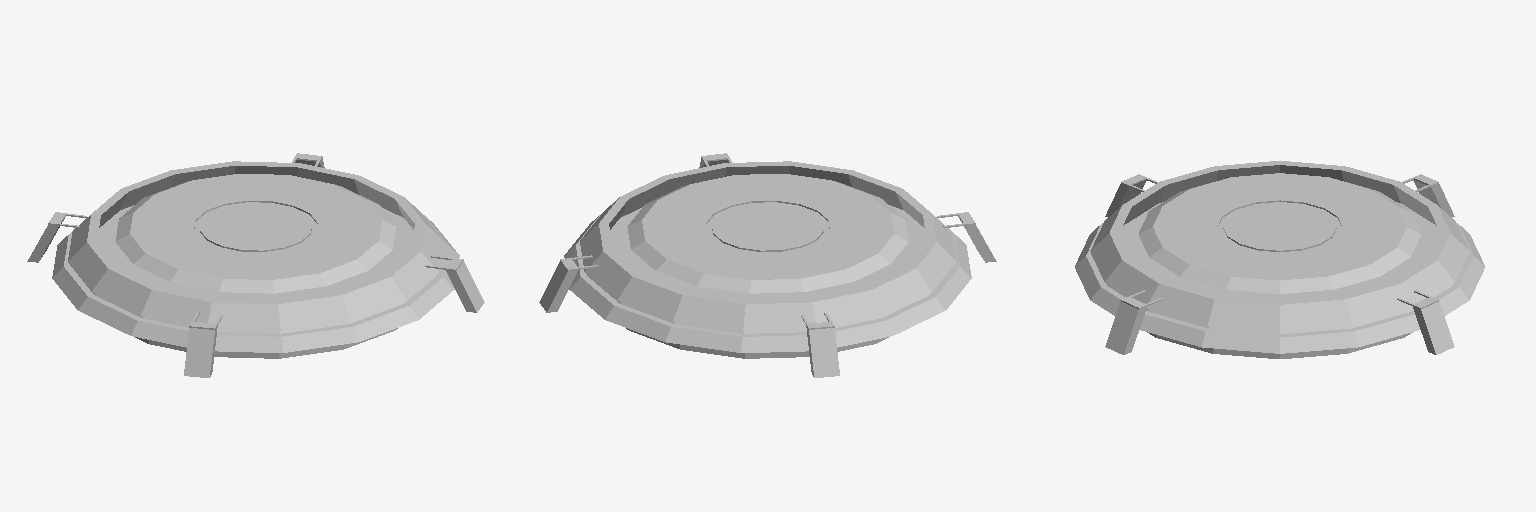
The model's file is StandButton.obj.
3 renders of one model, left to right at view 1: azimuth 30°, elevation 25°; view 2: azimuth 150°, elevation 25°; view 3: azimuth 270°, elevation 25°, orthographic.
Parts seen in each view (by area): view 1: stand_chassi.001_Cylinder.006, Stand_Button.001_Cylinder.007; view 2: stand_chassi.001_Cylinder.006, Stand_Button.001_Cylinder.007; view 3: stand_chassi.001_Cylinder.006, Stand_Button.001_Cylinder.007.
Part boxes in pixels (left/top/right/bottom): stand_chassi.001_Cylinder.006: left=27, top=153, right=484, bottom=377; Stand_Button.001_Cylinder.007: left=115, top=174, right=396, bottom=293; stand_chassi.001_Cylinder.006: left=539, top=153, right=996, bottom=377; Stand_Button.001_Cylinder.007: left=627, top=174, right=908, bottom=293; stand_chassi.001_Cylinder.006: left=1075, top=161, right=1484, bottom=358; Stand_Button.001_Cylinder.007: left=1138, top=173, right=1421, bottom=293.
Bounding box in the file's own units: 5.03 × 0.7877 × 5.03.